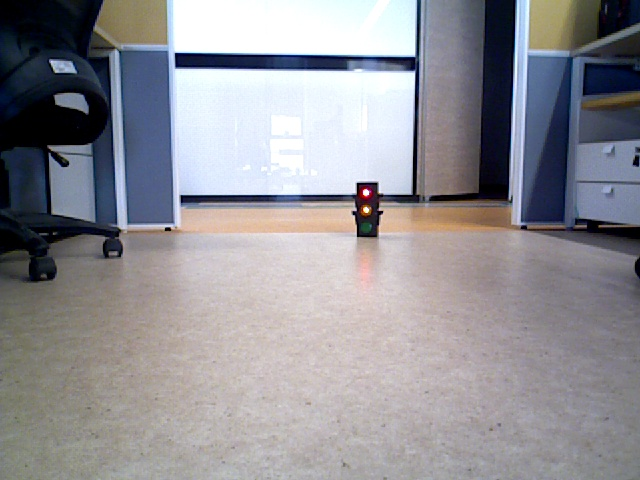red: (357, 185, 376, 235)
